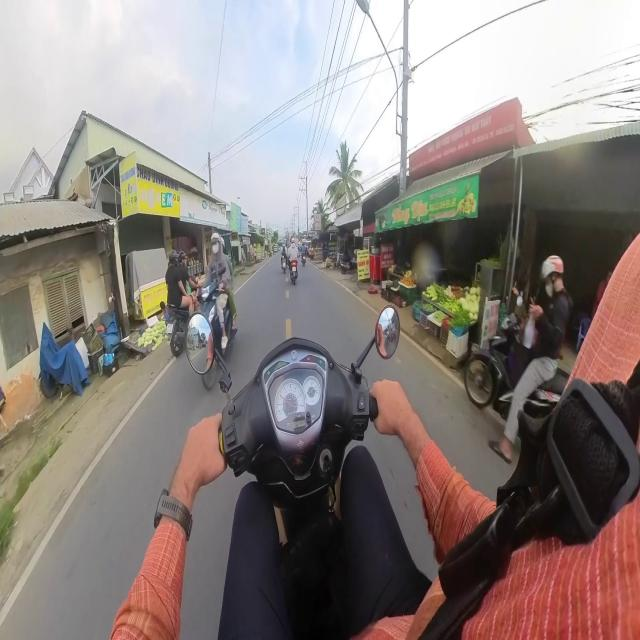motorcycle: (215, 307, 398, 638), (465, 321, 527, 418), (187, 285, 236, 361), (161, 303, 189, 357), (290, 259, 297, 285), (281, 256, 286, 272), (302, 255, 306, 266)
